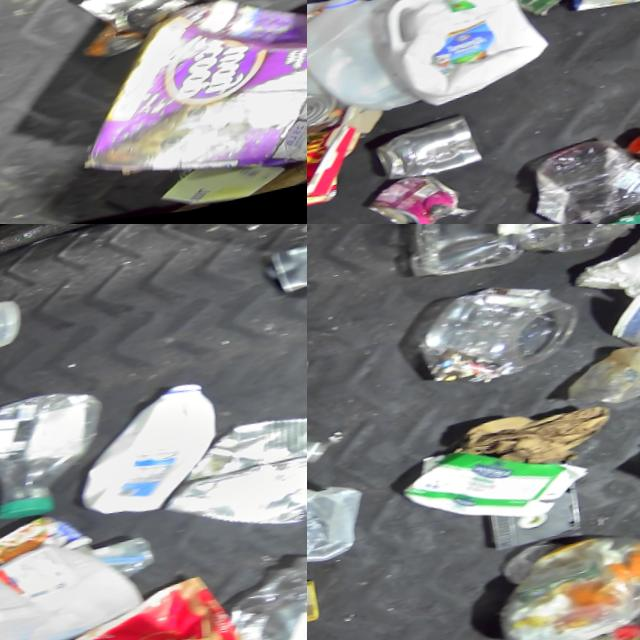can: (365, 115, 477, 192), (352, 166, 459, 224), (76, 0, 198, 45), (268, 240, 307, 301), (307, 90, 340, 148)
milk_jug: (73, 381, 228, 528), (368, 0, 549, 119), (0, 536, 143, 640), (307, 0, 417, 130)
plastic_bottle: (0, 387, 106, 525), (228, 556, 307, 640)
